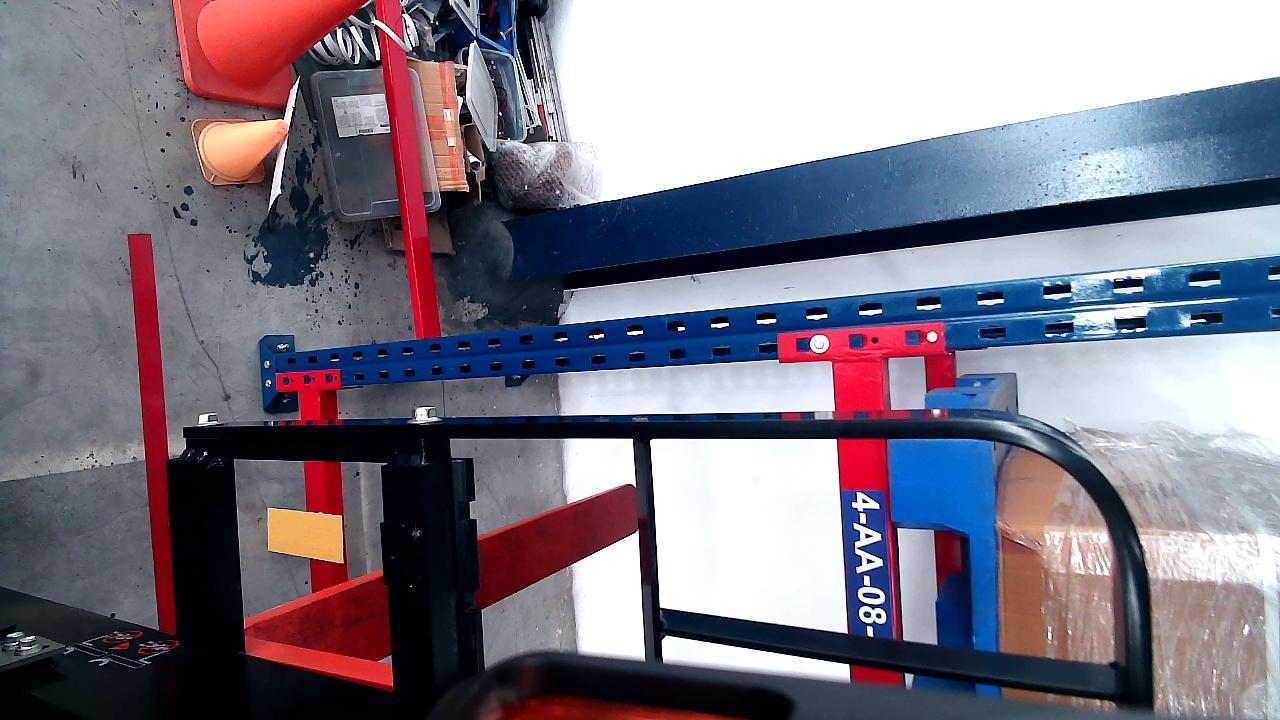red_line: (134, 235, 176, 628)
